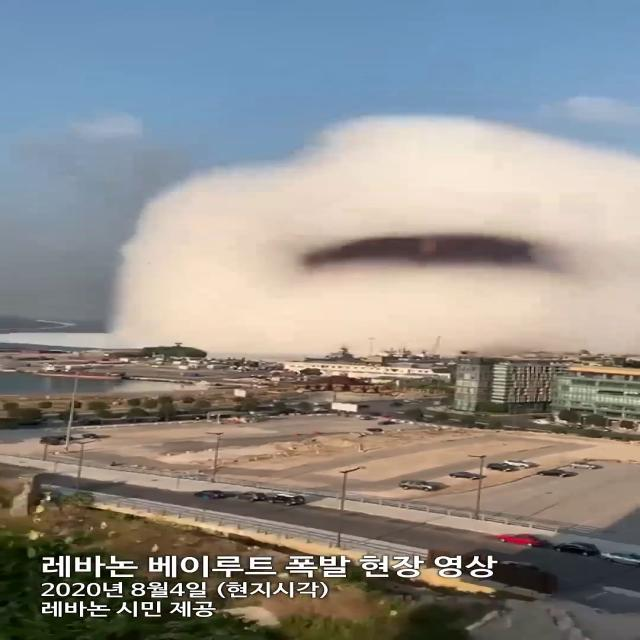explosion: (90, 110, 640, 359)
